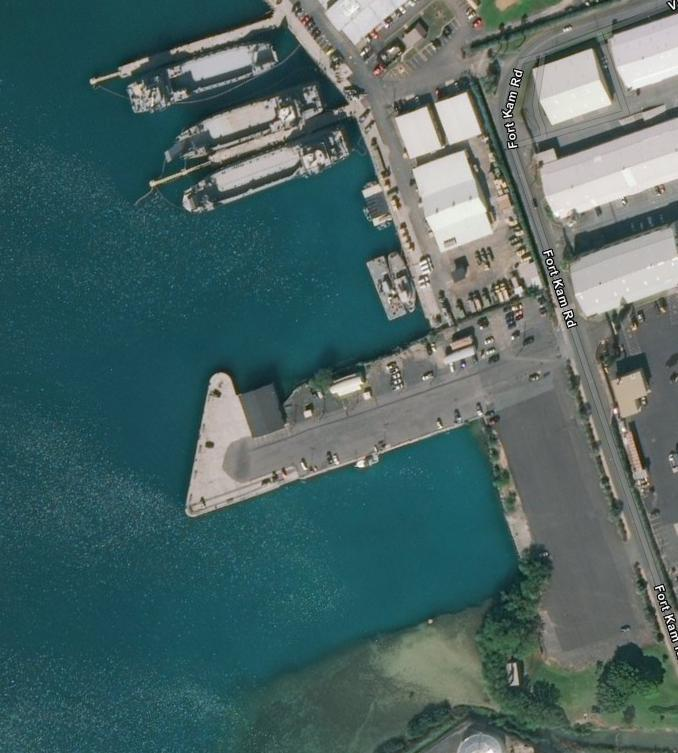barge: (177, 127, 358, 218), (158, 82, 330, 171), (125, 40, 282, 122)
